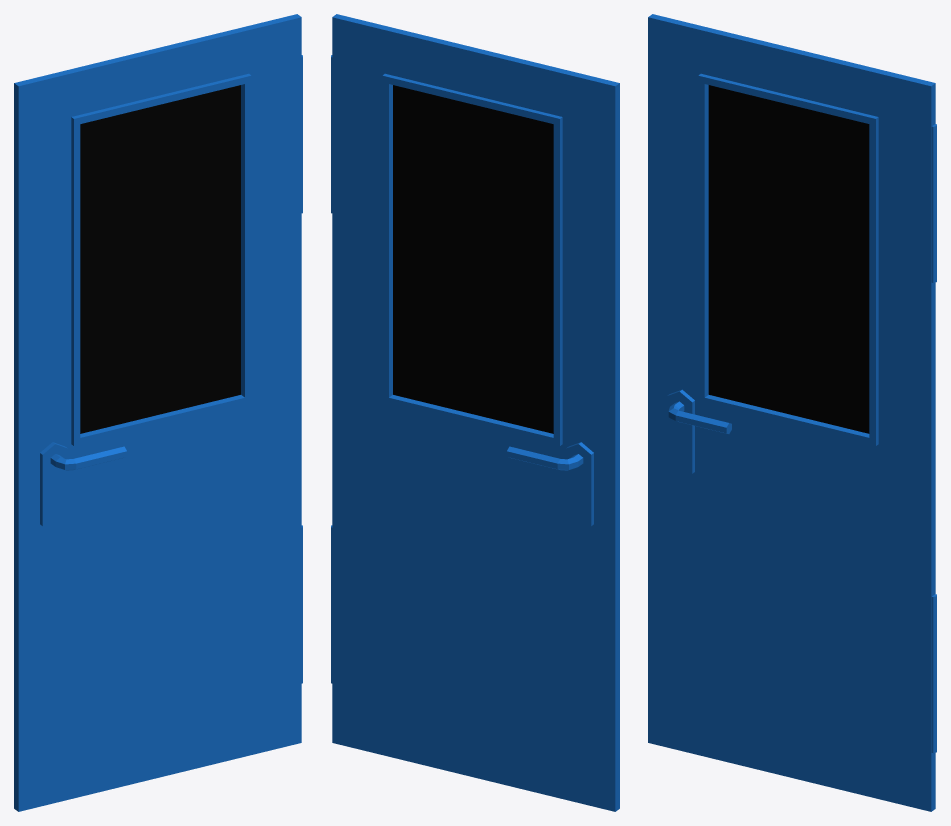
Rendered from HALF_door_1.fbx.
3 renders of one model, left to right at view 1: azimuth 30°, elevation 25°; view 2: azimuth 150°, elevation 25°; view 3: azimuth 330°, elevation 25°, orthographic.
Visible parts, largest first — view 1: Cylinder_5; view 2: Cylinder_5; view 3: Cylinder_5.
Boxes of the visible parts, <box> form: Cylinder_5: <box>14,14,302,811</box>; Cylinder_5: <box>331,14,619,811</box>; Cylinder_5: <box>648,14,936,811</box>.
Bounding box in the file's own units: 79.56 × 193 × 16.68.
